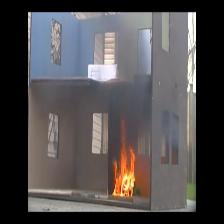fire: (111, 152, 134, 195)
smoke: (116, 93, 148, 111)
